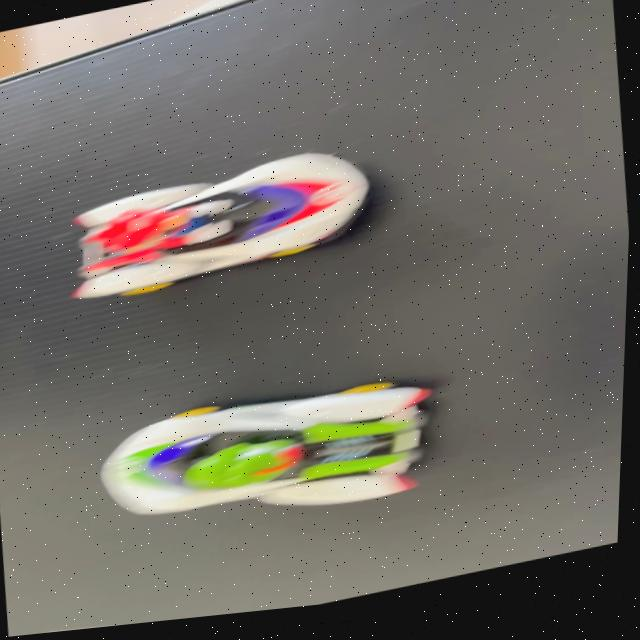mario: (55, 140, 408, 326)
yoshi: (66, 345, 475, 575)
